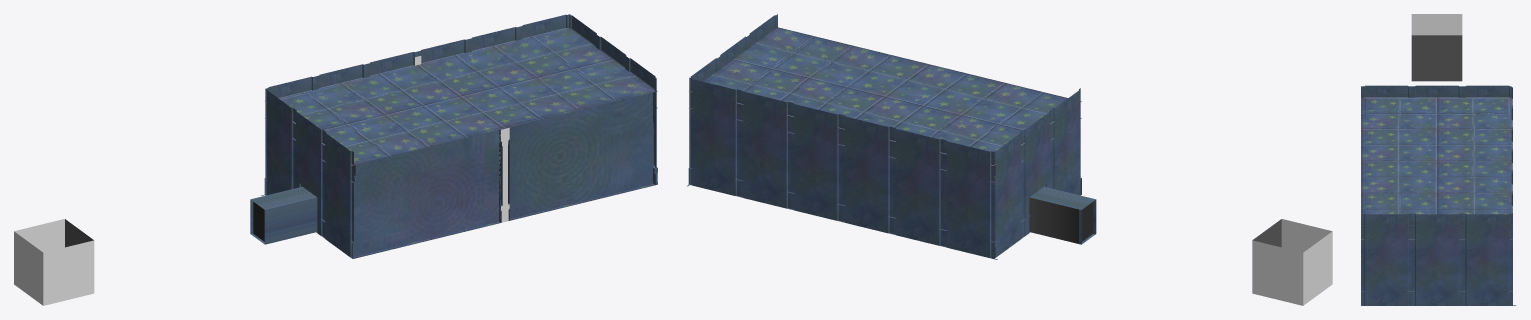
The model's file is las_16.dae.
3 renders of one model, left to right at view 1: azimuth 30°, elevation 25°; view 2: azimuth 150°, elevation 25°; view 3: azimuth 270°, elevation 25°, orthographic. The views are drawn at different scales.
Visible parts, largest first — view 1: pCube4_q00011, pCube1_q00009, pCube1_q00216, polySurface204_q00000, pCube3_q00199, pCube3_q00198, pCube3_q00197, pCube3_q00005, pCube3_q00185, pCube3_q00187, pCube1_q00217, pCube3_q00188 (+6 smaller); view 2: pCube1_q00216, pCube1_q00009, pCube3_q00188, pCube3_q00185, pCube3_q00183, pCube3_q00186, pCube3_q00184, pCube3_q00187, polySurface204_q00000, pCube3_q00199, pCube3_q00197, pCube3_q00198 (+4 smaller); view 3: pCube1_q00216, pCube1_q00009, pCube3_q00211, pCube3_q00209, pCube3_q00210, e_bero_1, polySurface204_q00000, pCube3_q00199, pCube3_q00198, pCube3_q00197.
Boxes of the visible parts, x1,y1,x2,y2 form: pCube4_q00011: (354,93,652,256); pCube1_q00009: (280,29,649,159); pCube1_q00216: (265,28,657,165); polySurface204_q00000: (14,219,94,305); pCube3_q00199: (250,109,324,244); pCube3_q00198: (324,131,353,257); pCube3_q00197: (266,89,294,195); pCube3_q00005: (250,187,316,243); pCube3_q00185: (261,76,315,195); pCube3_q00187: (468,26,519,52); pCube1_q00217: (351,183,655,258); pCube3_q00188: (519,14,570,39); pCube1_q00216: (689,27,1081,165); pCube1_q00009: (706,29,1063,146); pCube3_q00188: (689,77,741,197); pCube3_q00185: (943,140,997,259); pCube3_q00183: (893,127,946,247); pCube3_q00186: (791,102,841,221); pCube3_q00184: (842,115,892,233); pCube3_q00187: (740,90,790,208); polySurface204_q00000: (1252,219,1332,305); pCube3_q00199: (1022,110,1096,244); pCube3_q00197: (993,131,1024,257); pCube3_q00198: (1051,88,1080,195); pCube1_q00216: (1361,97,1512,225); pCube1_q00009: (1364,98,1509,214); pCube3_q00211: (1411,213,1462,305); pCube3_q00209: (1361,213,1411,305); pCube3_q00210: (1462,213,1516,305); e_bero_1: (1411,35,1462,81); polySurface204_q00000: (1411,14,1462,35); pCube3_q00199: (1411,85,1462,97); pCube3_q00198: (1361,85,1411,97); pCube3_q00197: (1462,85,1511,97).
Size of the model in its own units: 115 by 20 by 30.75.
